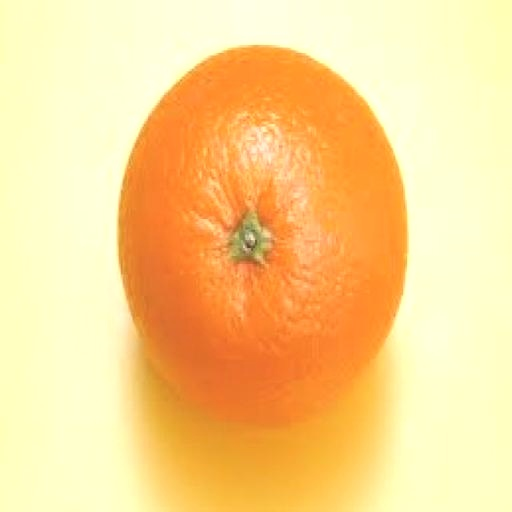fruit: (118, 47, 406, 423)
